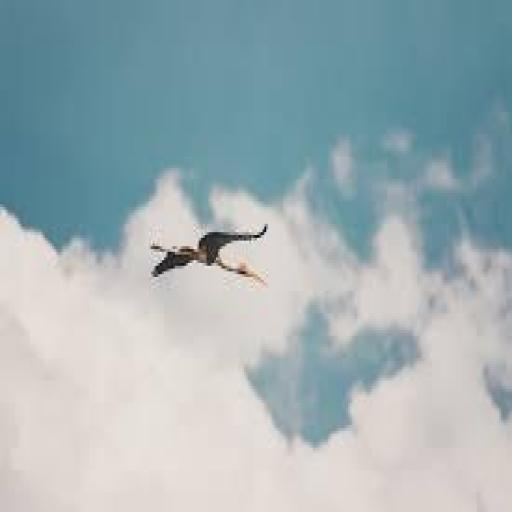birds: (148, 221, 268, 288)
